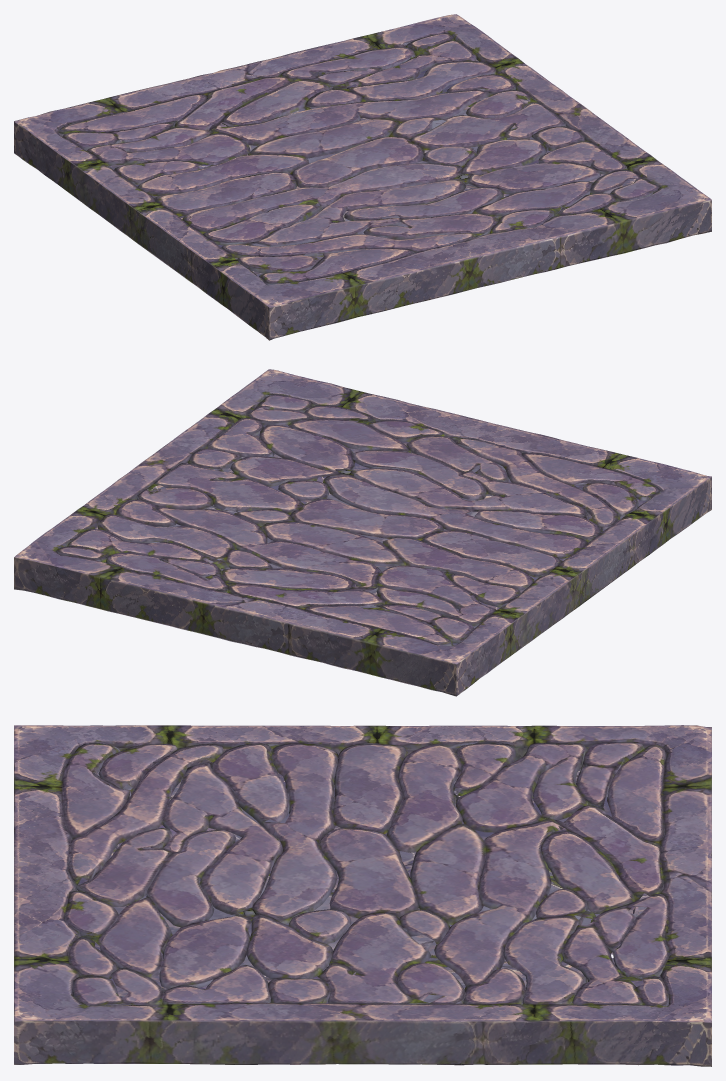
Rendered from flagstone-deck-v3.glb.
3 renders of one model, top to bottom at view 1: azimuth 30°, elevation 25°; view 2: azimuth 150°, elevation 25°; view 3: azimuth 270°, elevation 25°, orthographic. The views are drawn at different scales.
Size of the model in its own units: 1 by 0.076 by 1.
Materials: 1 (1 with a texture image).
